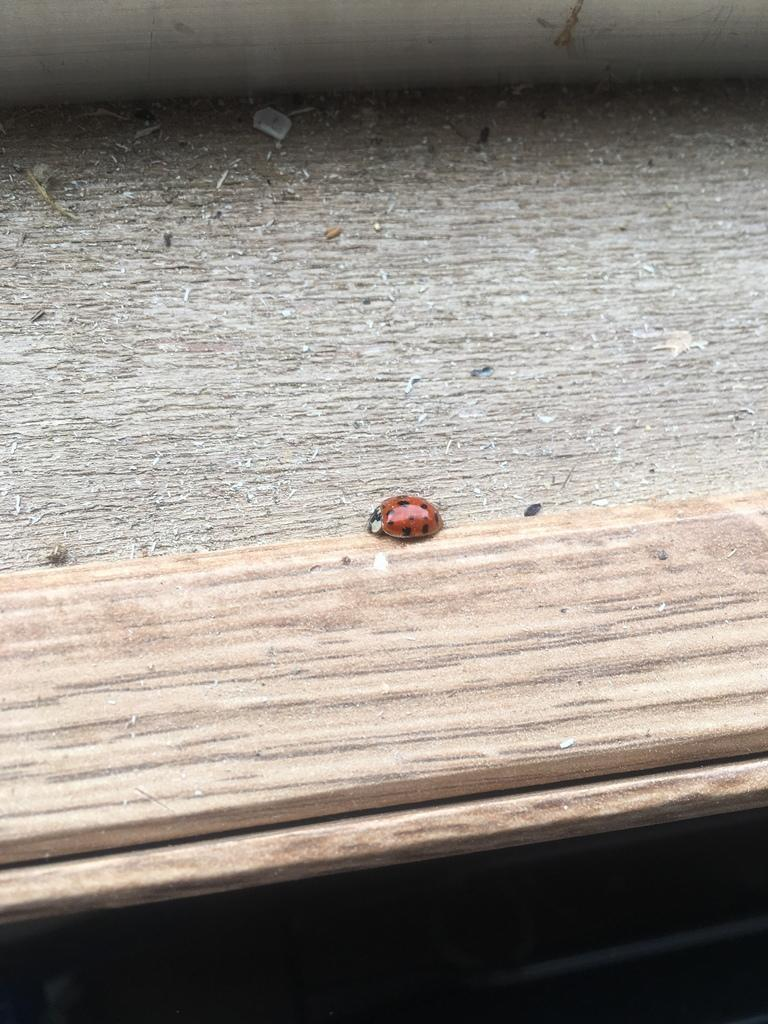ladybug: (365, 493, 448, 545)
